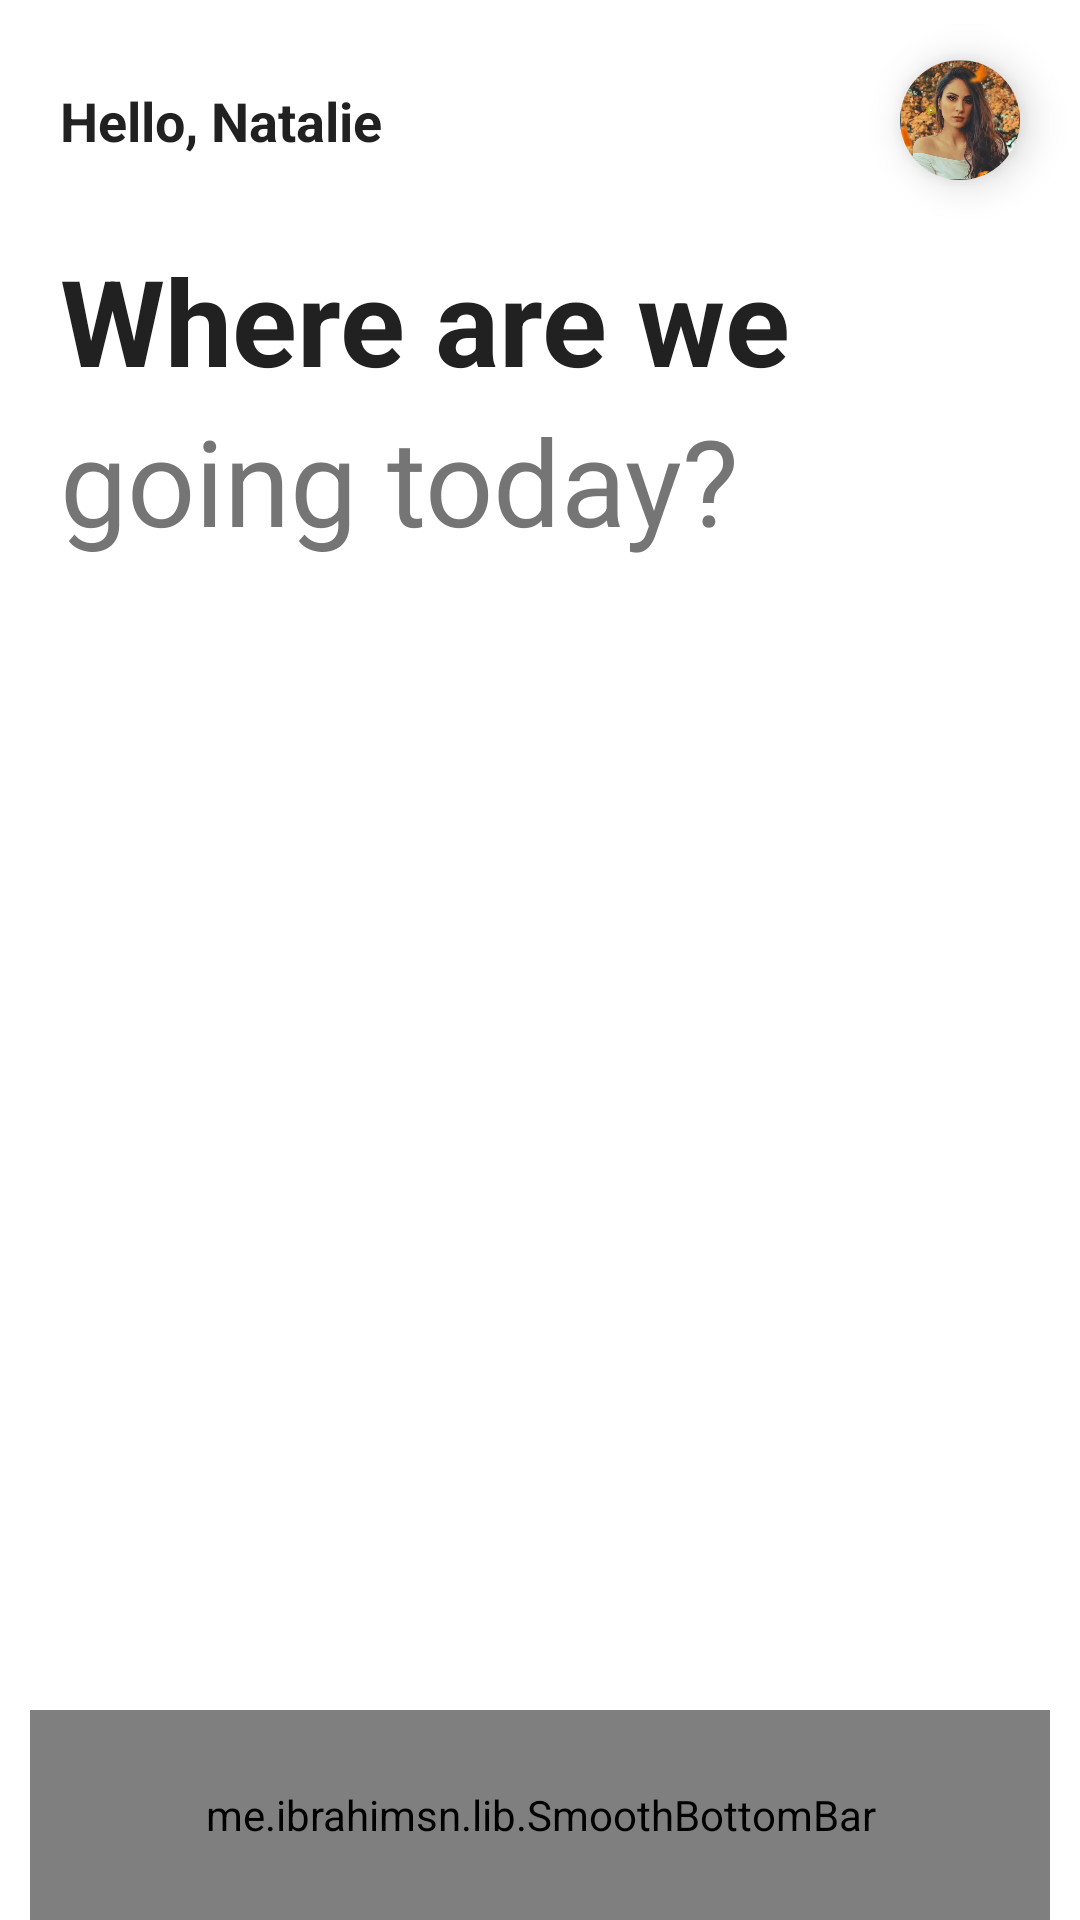

Icons on this 1080px x 1920px Android screen, each with its box as [x1, y1, x2, y2]:
profile picture: [900, 60, 1020, 180]
